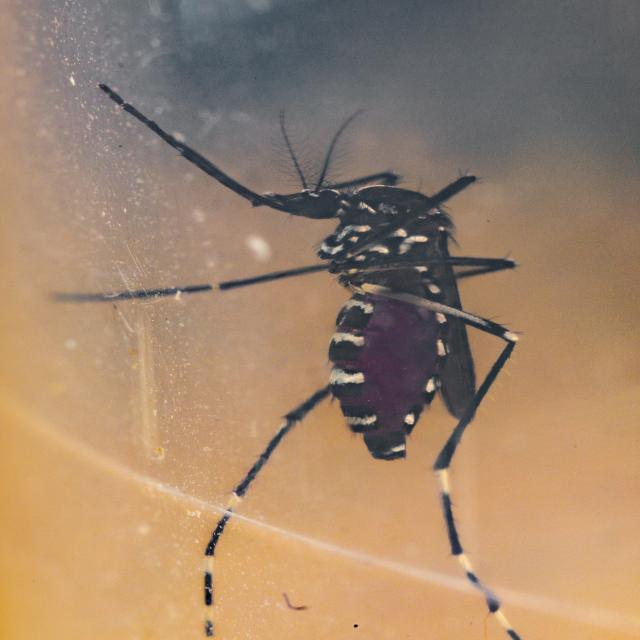albopictus: (61, 91, 583, 634)
